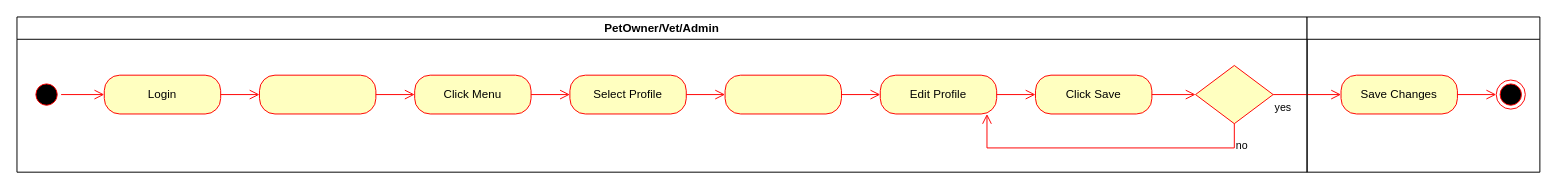
This 1557x189 diagram has some shape labels left out. The shapes that lost their labels are listed below. From the top down, each one's centre as x and y in pixels, then its label:
At (317,94): "View Dashboard".
At (782,94): "Click Edit Profile".
At (1234,94): "Save Changes?".
At (1423,94): "System".
